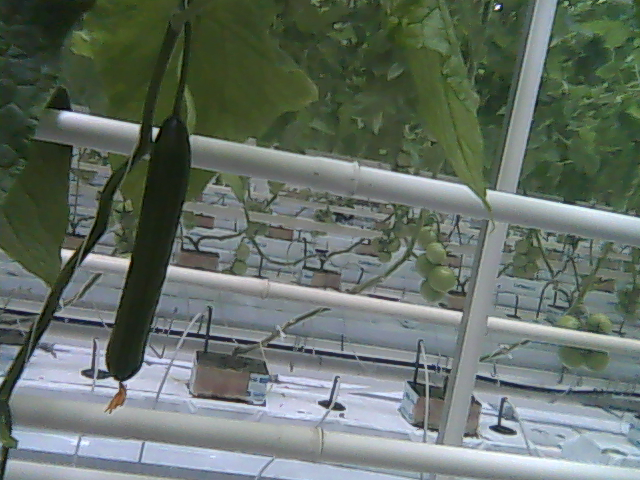concombre: (103, 100, 195, 416)
